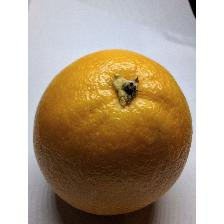Orange: (32, 46, 192, 216)
